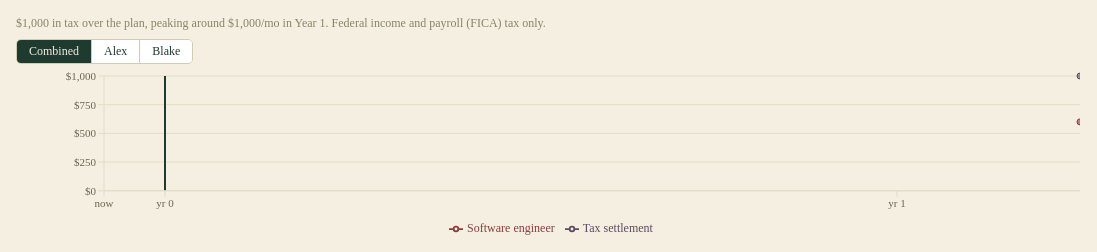
TaxChart — whose April settlement › gives a person their own slice of the April bill
Click the button "Blake" at (166, 52), box left=139, top=40, right=192, bottom=63
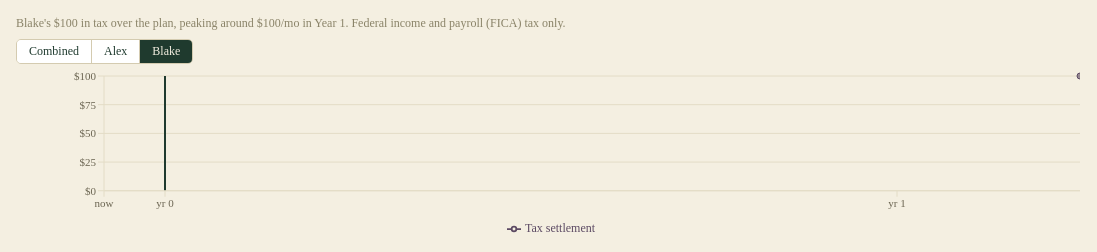
Result: the text with test id "tax-summary" shows "Blake's $100 in tax" at left=16, top=16, right=566, bottom=30
